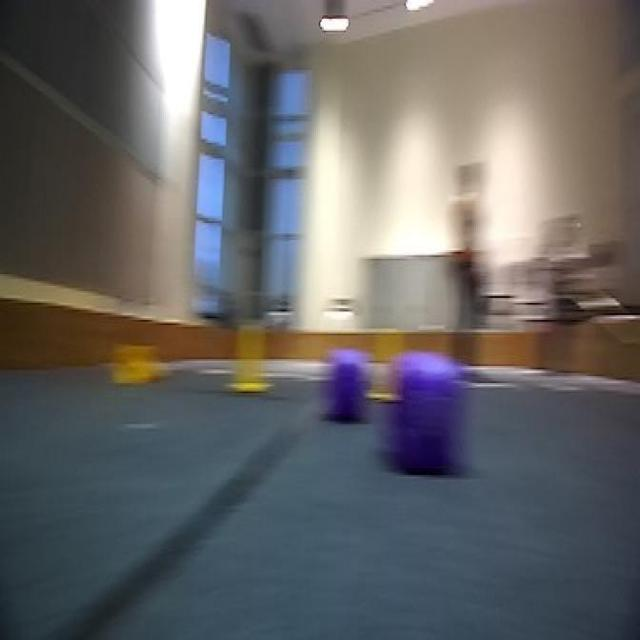frc_cone: (361, 328, 413, 402), (116, 334, 174, 398), (230, 318, 274, 398)
frc_cube: (395, 368, 466, 483), (330, 372, 366, 418)
